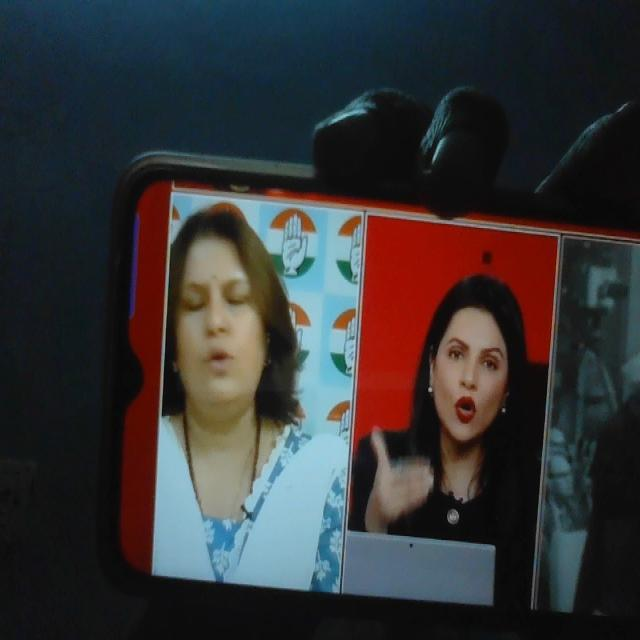fake: (162, 197, 276, 412), (419, 244, 531, 456)
